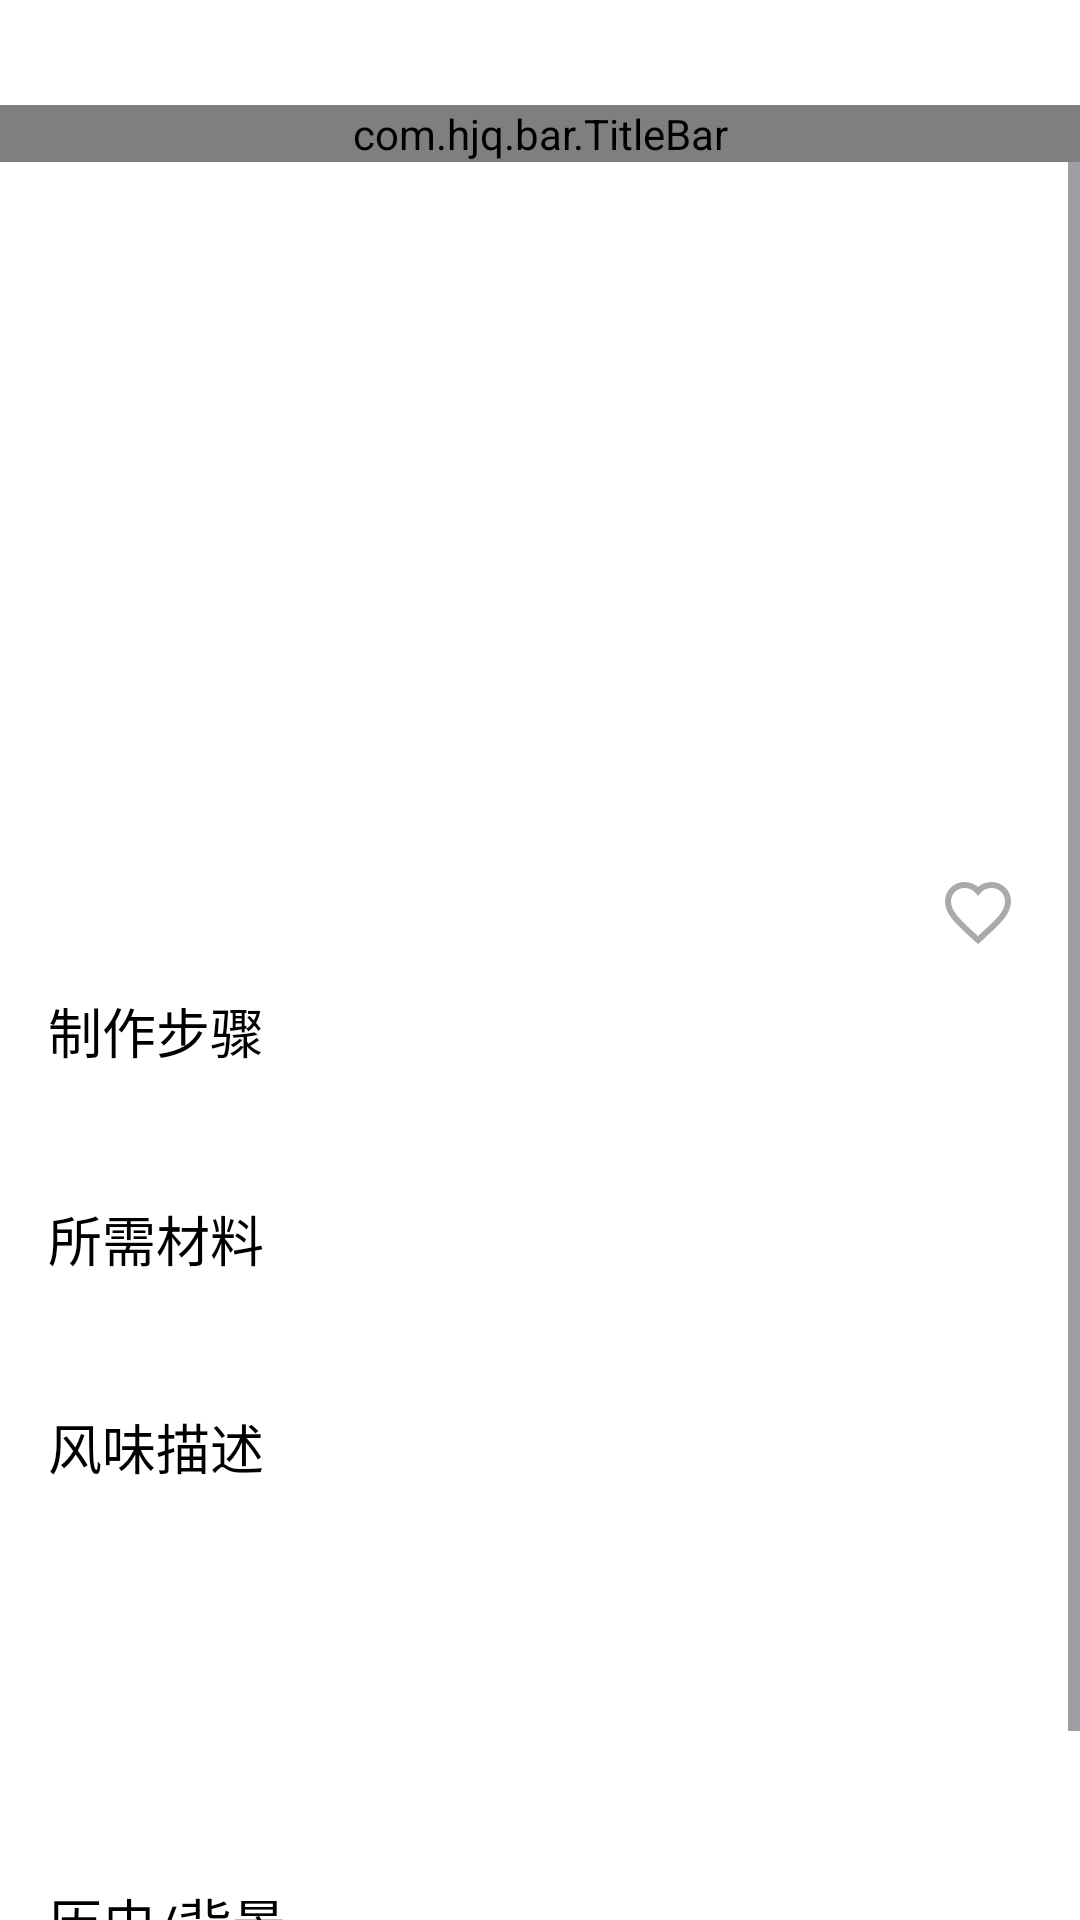

Locate icon controls on the screen. Image size 1080x1920, boxes as box(x1, y1, x2, y2).
favorite border: box(945, 882, 1011, 944)
